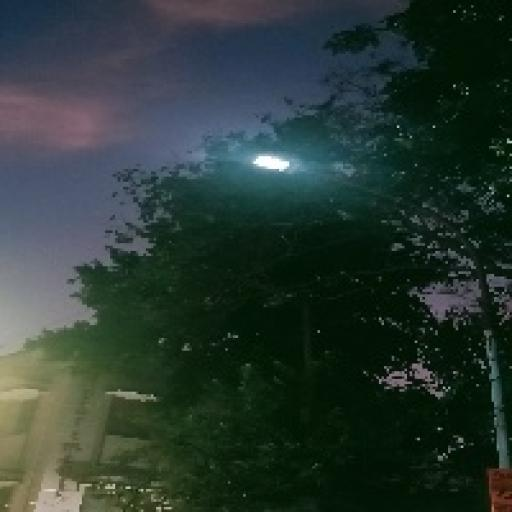Working: (244, 145, 306, 184)
